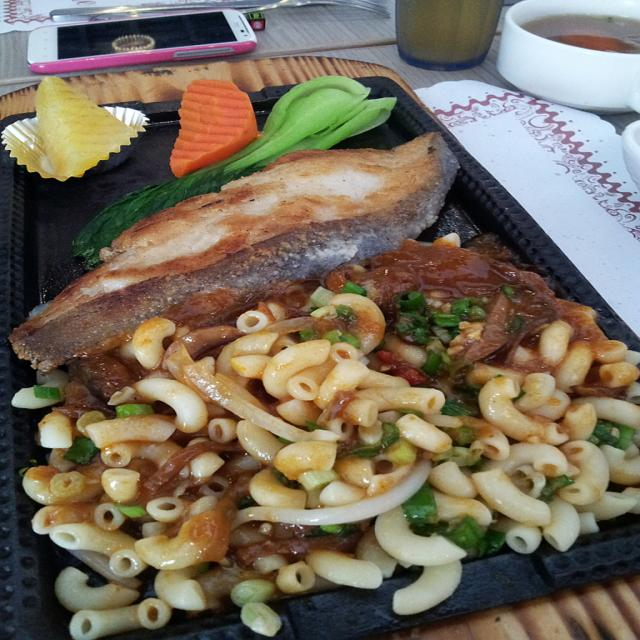Tea: (548, 34, 639, 56)
